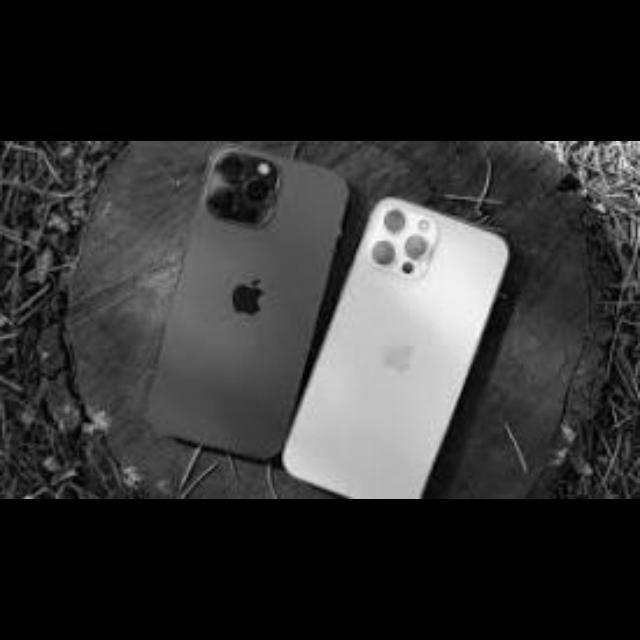fake: (170, 140, 521, 497)
